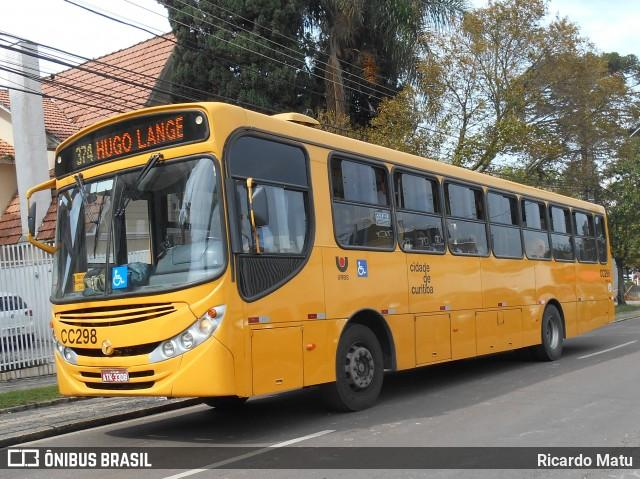HUGO LANGE: (92, 113, 187, 167)
